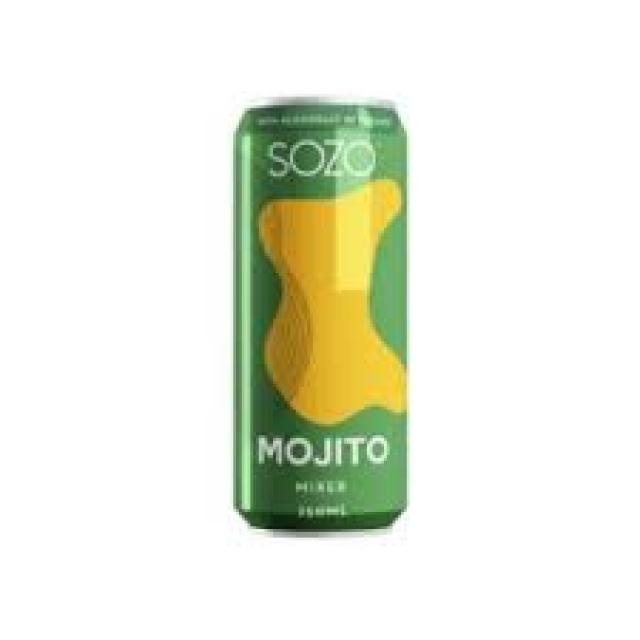Cans: (222, 88, 427, 541)
